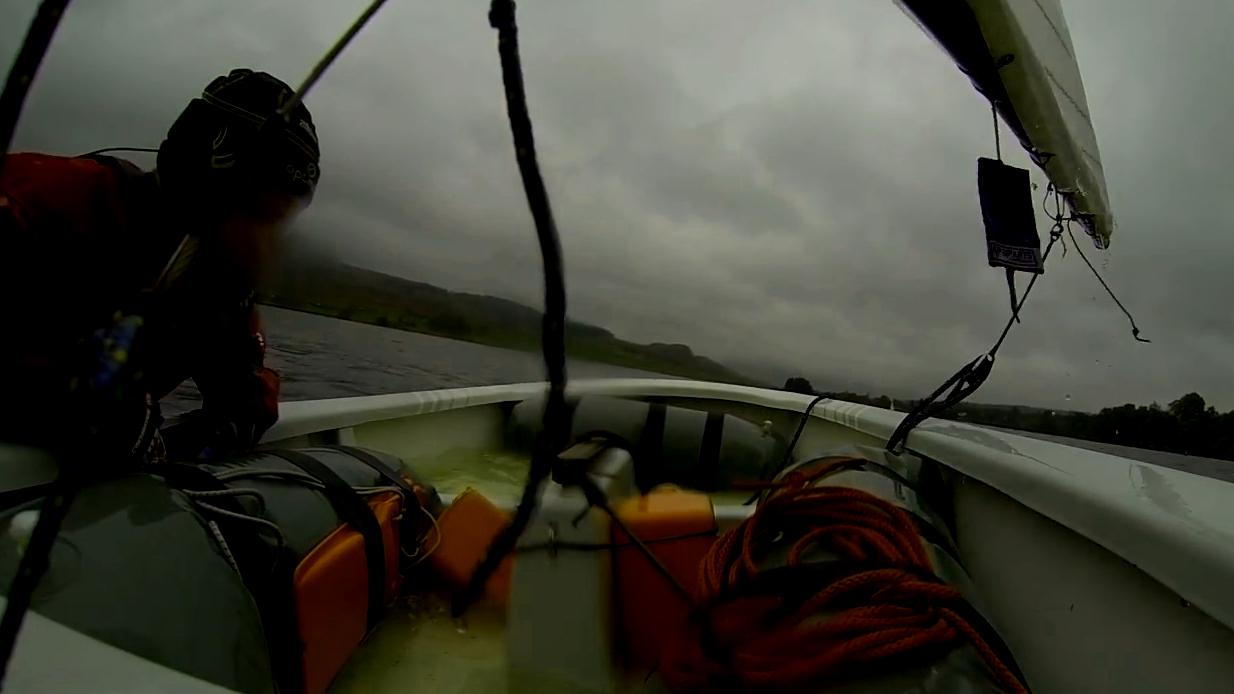boat: (0, 381, 1234, 694), (898, 0, 1112, 245)
land: (259, 261, 547, 353), (939, 404, 1234, 461), (562, 321, 767, 387)
person: (0, 70, 321, 449)
sea: (257, 307, 551, 401), (928, 421, 1234, 485), (567, 359, 669, 380)
sky: (5, 0, 1234, 414), (0, 0, 67, 149)
